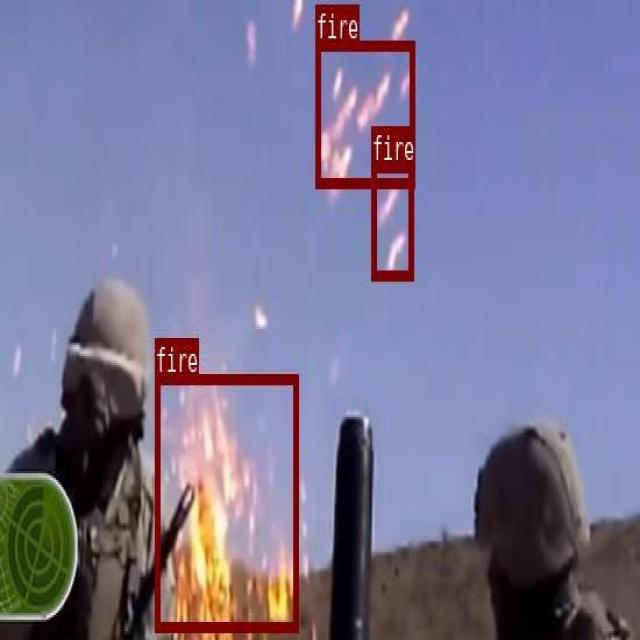fire: (154, 372, 297, 630), (315, 39, 414, 186), (371, 162, 413, 278)
